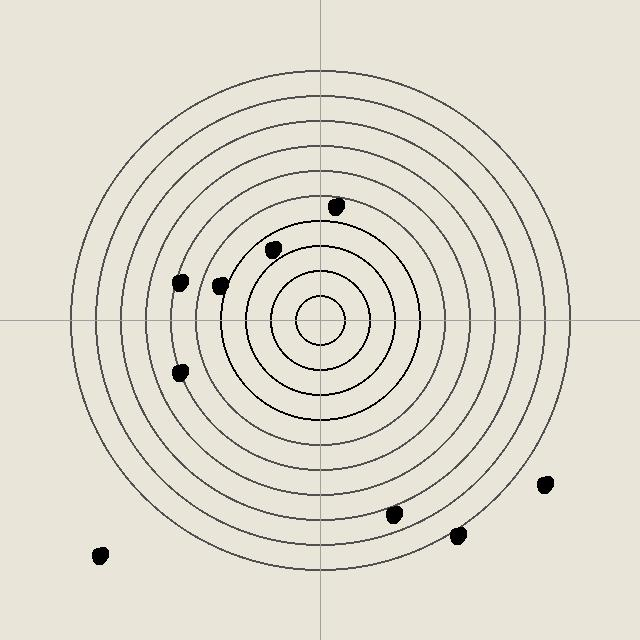random_scatter: (169, 272, 189, 292), (89, 545, 109, 565), (534, 474, 554, 494), (447, 525, 467, 545), (169, 362, 189, 382), (262, 239, 282, 259), (209, 275, 229, 295), (383, 504, 403, 524), (325, 196, 345, 216)
